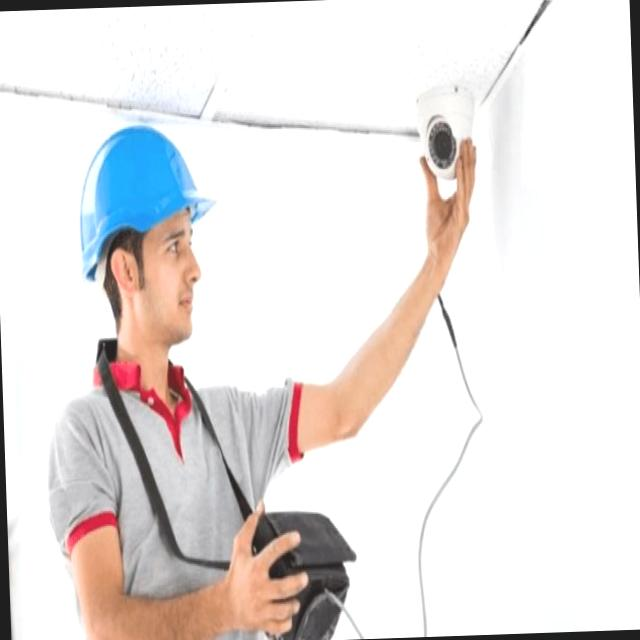helmet-detection: (46, 112, 253, 392)
